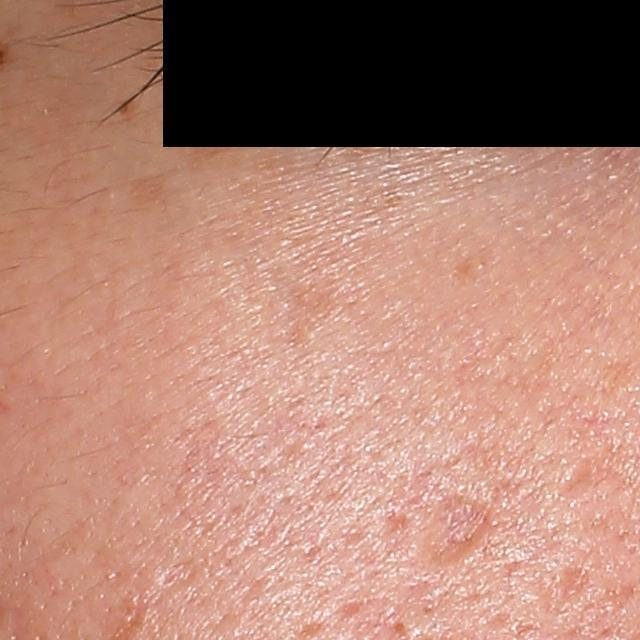atrophic_scar: (423, 498, 498, 567), (559, 456, 628, 501), (561, 566, 595, 604)
melasma: (189, 121, 242, 161), (130, 173, 169, 208)
